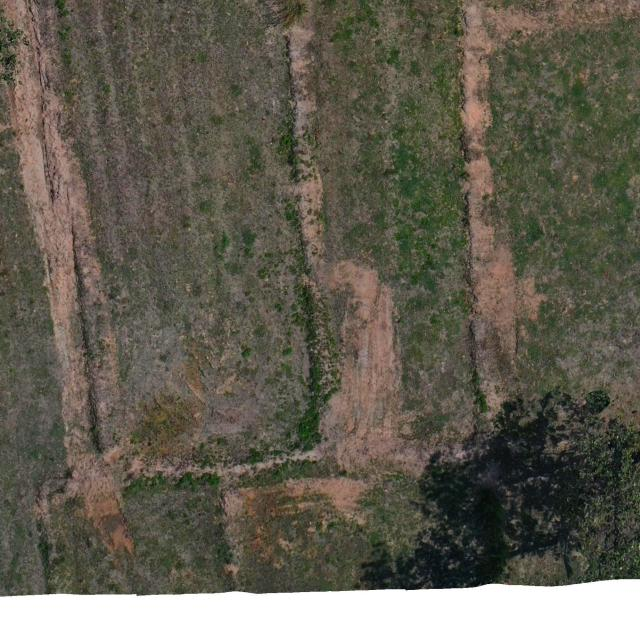Tree: (538, 385, 640, 590), (0, 0, 32, 107)
